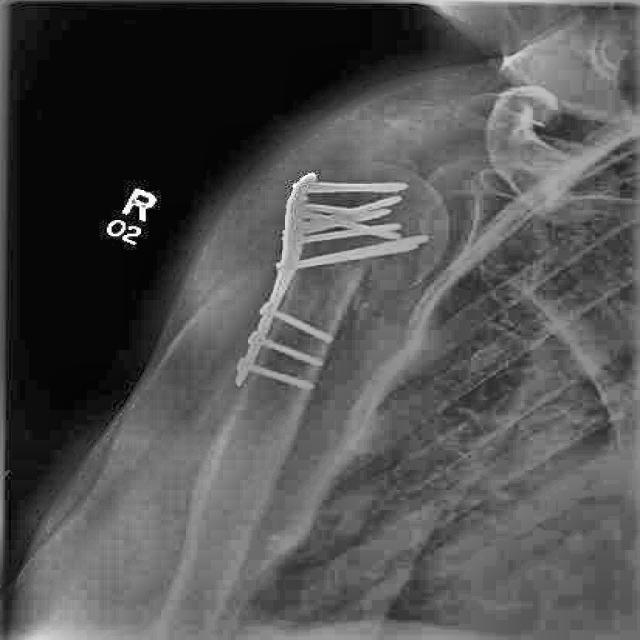shoulder fracture: (323, 256, 390, 318)
